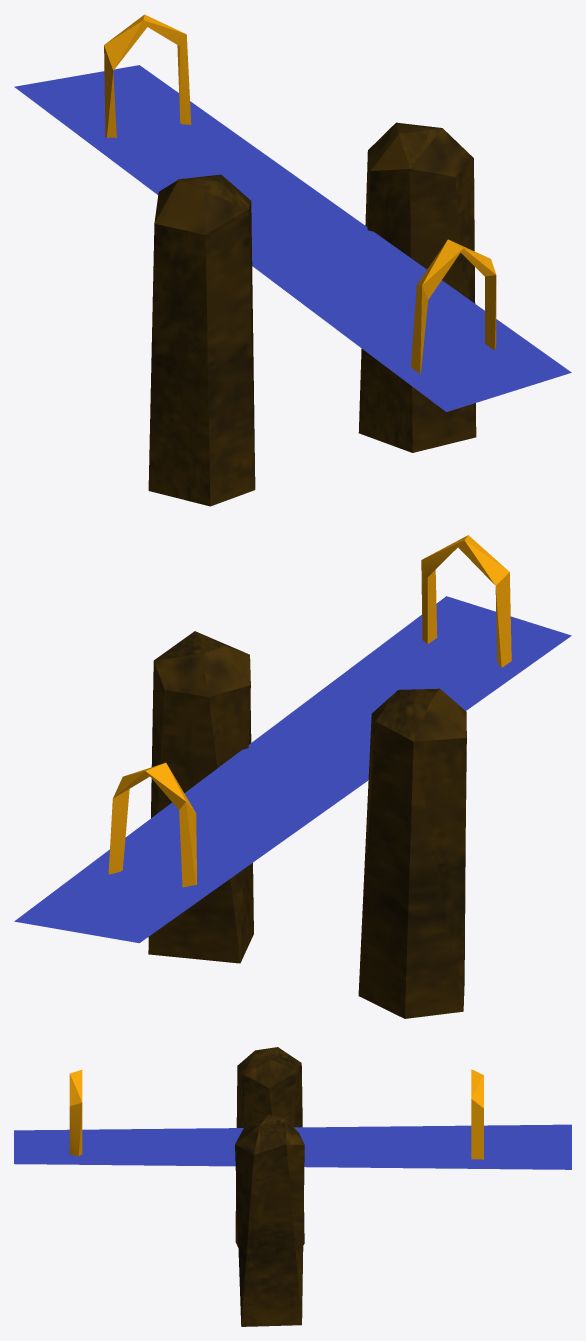
File: GangorraAzulLOD1.fbx
3 renders of one model, top to bottom at view 1: azimuth 30°, elevation 25°; view 2: azimuth 150°, elevation 25°; view 3: azimuth 270°, elevation 25°, orthographic. The views are drawn at different scales.
Visible parts, largest first — view 1: GangorraAzulLOD1; view 2: GangorraAzulLOD1; view 3: GangorraAzulLOD1.
Boxes of the visible parts, x1,y1,x2,y2 form: GangorraAzulLOD1: [14, 14, 571, 506]; GangorraAzulLOD1: [14, 535, 571, 1018]; GangorraAzulLOD1: [14, 1047, 571, 1326].
Bounding box in the file's own units: 64 × 64.53 × 156.
